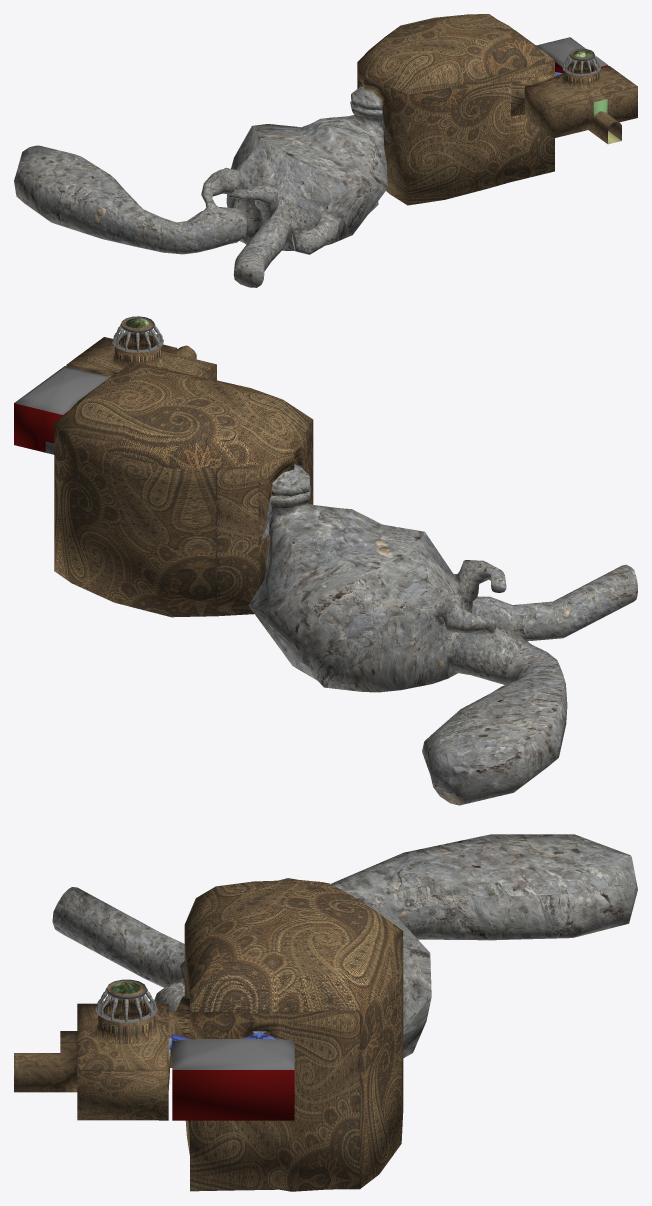
Rendered from Manor2.fbx.
3 renders of one model, top to bottom at view 1: azimuth 30°, elevation 25°; view 2: azimuth 150°, elevation 25°; view 3: azimuth 270°, elevation 25°, orthographic. The views are drawn at different scales.
Parts seen in each view (by area): view 1: Plane; view 2: Plane; view 3: Plane.
Boxes of the visible parts, left/top/right/bottom form: Plane: left=14, top=14, right=637, bottom=287; Plane: left=14, top=316, right=637, bottom=805; Plane: left=14, top=834, right=637, bottom=1191.
Size of the model in its own units: 17.67 by 5.81 by 12.63.
